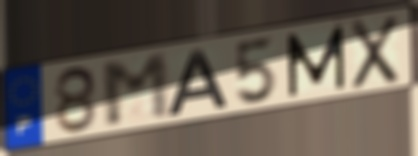5: (232, 34, 279, 107)
8: (52, 64, 100, 138)
A: (164, 47, 231, 119)
M: (98, 50, 175, 131), (283, 23, 348, 100)
X: (348, 12, 401, 92)
